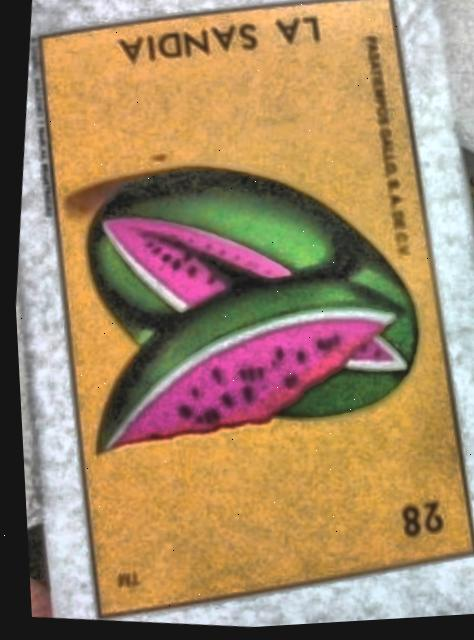La Sandia: (41, 2, 465, 616)
